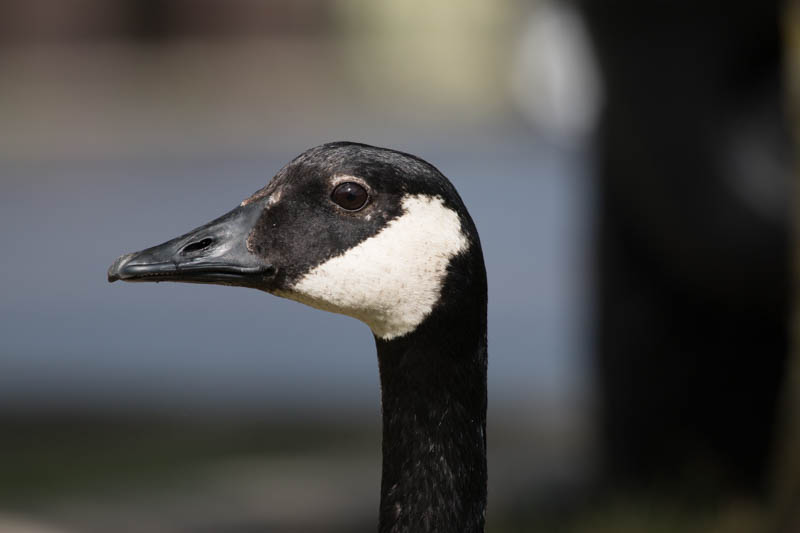goose-head: (106, 140, 488, 340)
